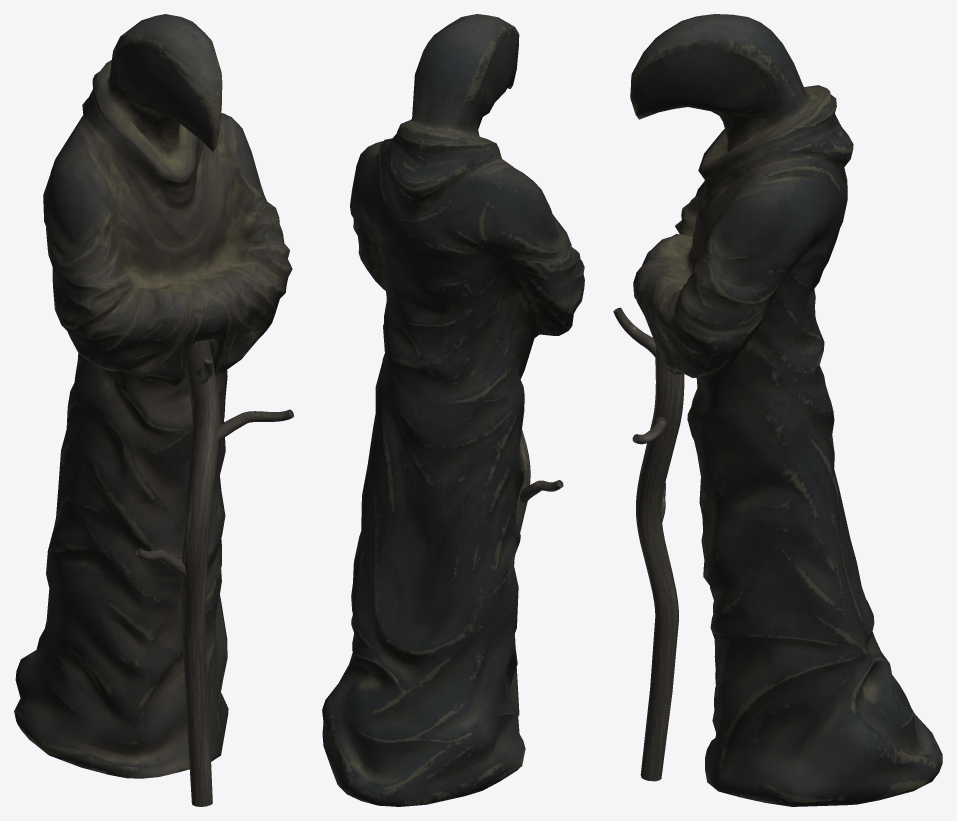
3 views of the same model, side by side, from view 1: azimuth 30°, elevation 25°; view 2: azimuth 150°, elevation 25°; view 3: azimuth 270°, elevation 25° (orthographic). The views are drawn at different scales.
Parts seen in each view (by area): view 1: gaurdian, stok; view 2: gaurdian, stok; view 3: gaurdian, stok.
Part boxes in pixels (x1,y1,x2,y2): gaurdian: (14,14,292,778); stok: (135,339,293,806); gaurdian: (322,14,584,806); stok: (509,430,563,715); gaurdian: (630,14,942,806); stok: (613,307,684,781).
Size of the model in its own units: 76.29 by 251 by 98.25.
Materials: 2 (2 with a texture image).
